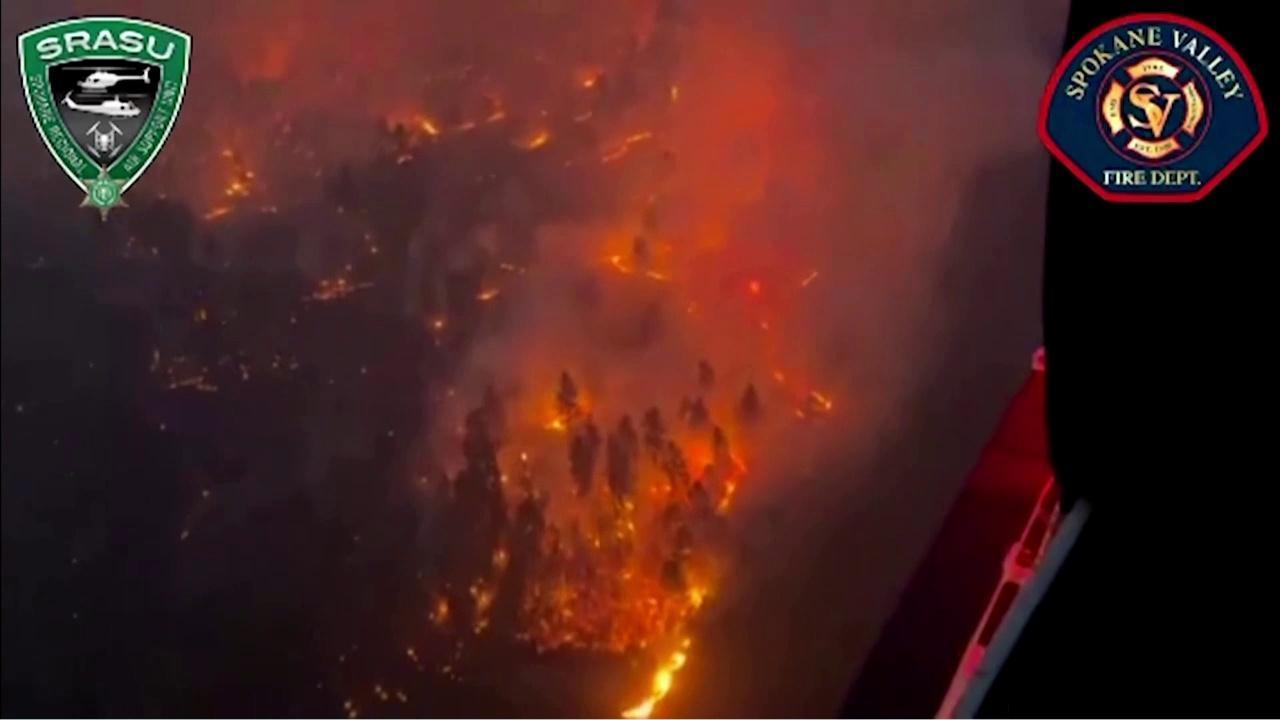fire: (511, 433, 750, 650), (607, 637, 697, 719), (465, 575, 500, 638), (223, 144, 259, 200), (301, 273, 377, 298), (602, 128, 655, 163), (533, 414, 594, 430), (480, 87, 505, 121), (518, 128, 550, 153), (413, 114, 442, 140), (488, 539, 510, 572), (195, 205, 238, 221), (607, 252, 632, 276), (807, 387, 833, 410), (432, 596, 450, 628), (468, 287, 504, 301), (643, 268, 674, 283), (747, 277, 762, 296), (459, 117, 475, 131), (670, 83, 680, 104), (771, 371, 787, 384), (431, 319, 447, 331), (585, 75, 595, 91)
smoke: (0, 0, 1069, 720)
